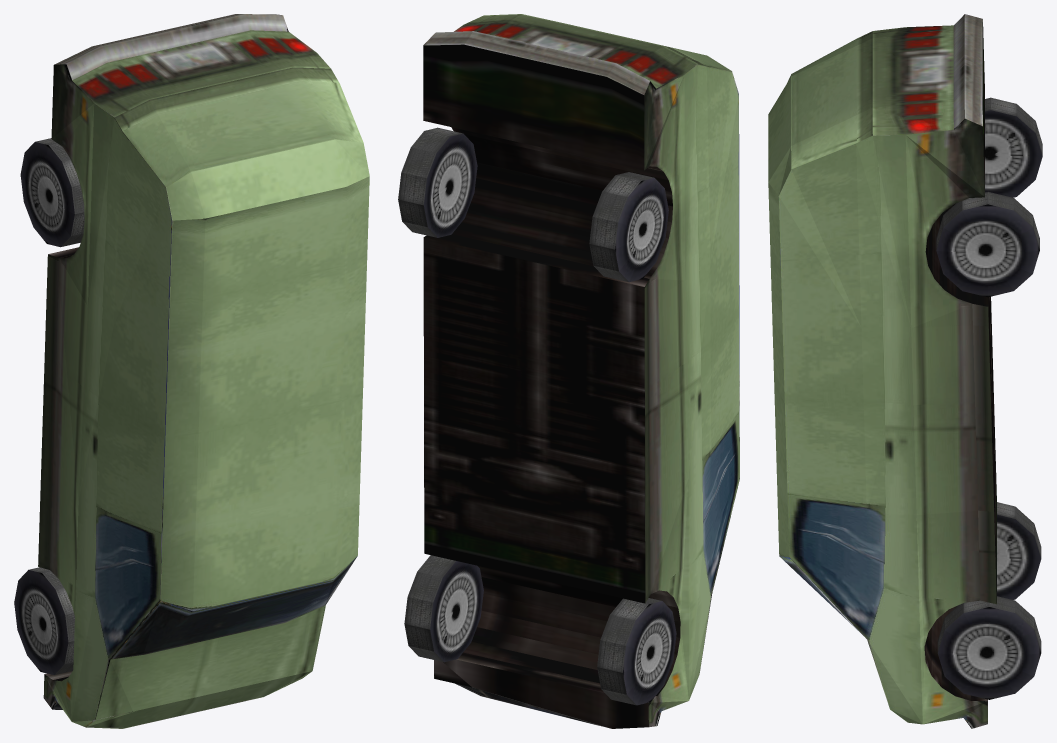
File: carpack_vangreen_wtf.obj
3 renders of one model, left to right at view 1: azimuth 30°, elevation 25°; view 2: azimuth 150°, elevation 25°; view 3: azimuth 270°, elevation 25°, orthographic. The views are drawn at different scales.
Parts seen in each view (by area): view 1: group2; view 2: group2; view 3: group2.
Boxes of the visible parts, left/top/right/bottom form: group2: left=14, top=14, right=369, bottom=728; group2: left=398, top=14, right=739, bottom=728; group2: left=768, top=14, right=1042, bottom=728.
Size of the model in its own units: 245 by 660 by 258.
